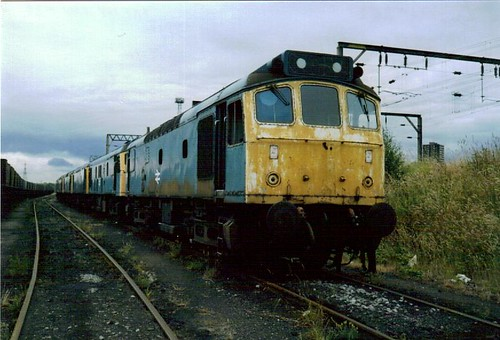sky: (1, 1, 489, 76)
train: (43, 73, 401, 259)
train track: (1, 201, 173, 338), (267, 272, 498, 340)
